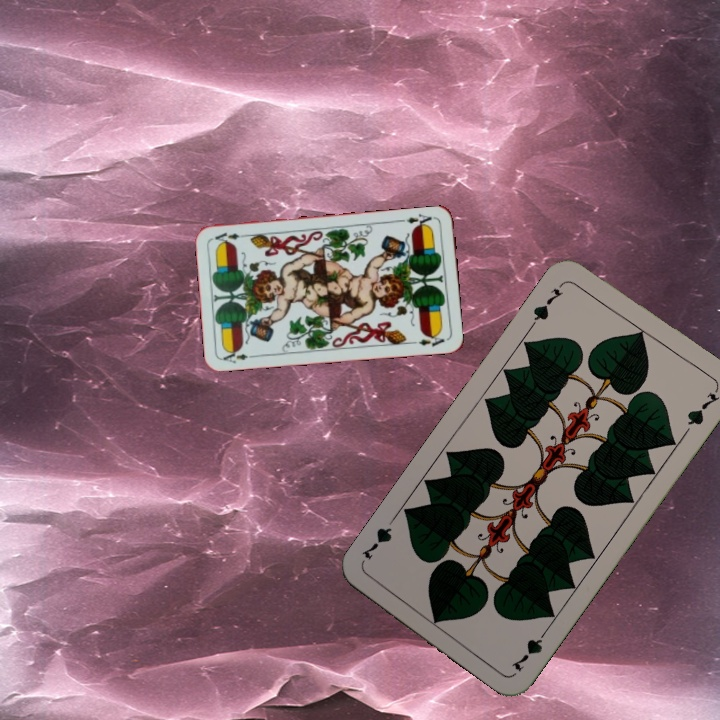EA: (219, 346, 259, 366), (403, 210, 434, 230)
G7: (507, 623, 552, 674), (527, 284, 566, 329)
